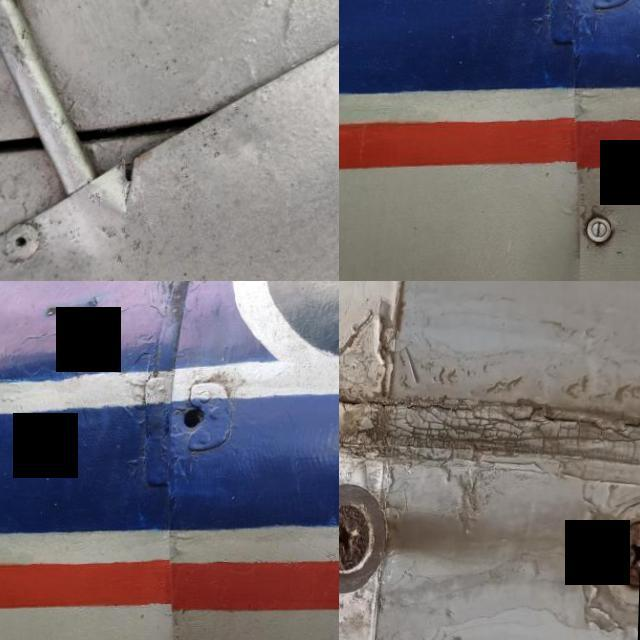Crack: (106, 146, 170, 228)
Missing_Fastener: (167, 390, 236, 459), (339, 508, 373, 573), (620, 527, 640, 591), (571, 0, 640, 16)
